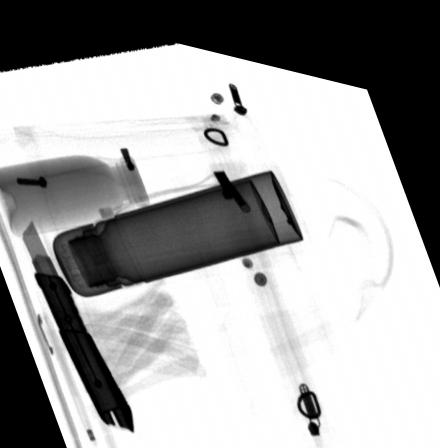Knife: (21, 217, 135, 429)
